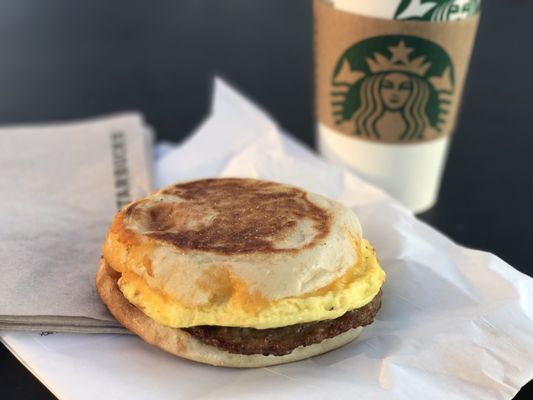pizza: (311, 0, 483, 216)
soup: (94, 177, 387, 369)
